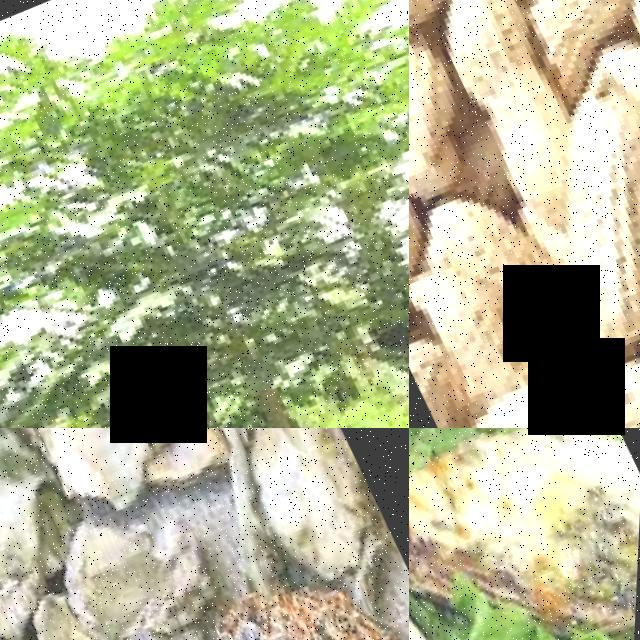oysters: (171, 428, 409, 614), (203, 504, 409, 640), (0, 428, 100, 640)
peanuts: (411, 0, 589, 174), (520, 130, 640, 352), (465, 284, 640, 428), (409, 0, 488, 172), (480, 390, 640, 428)
